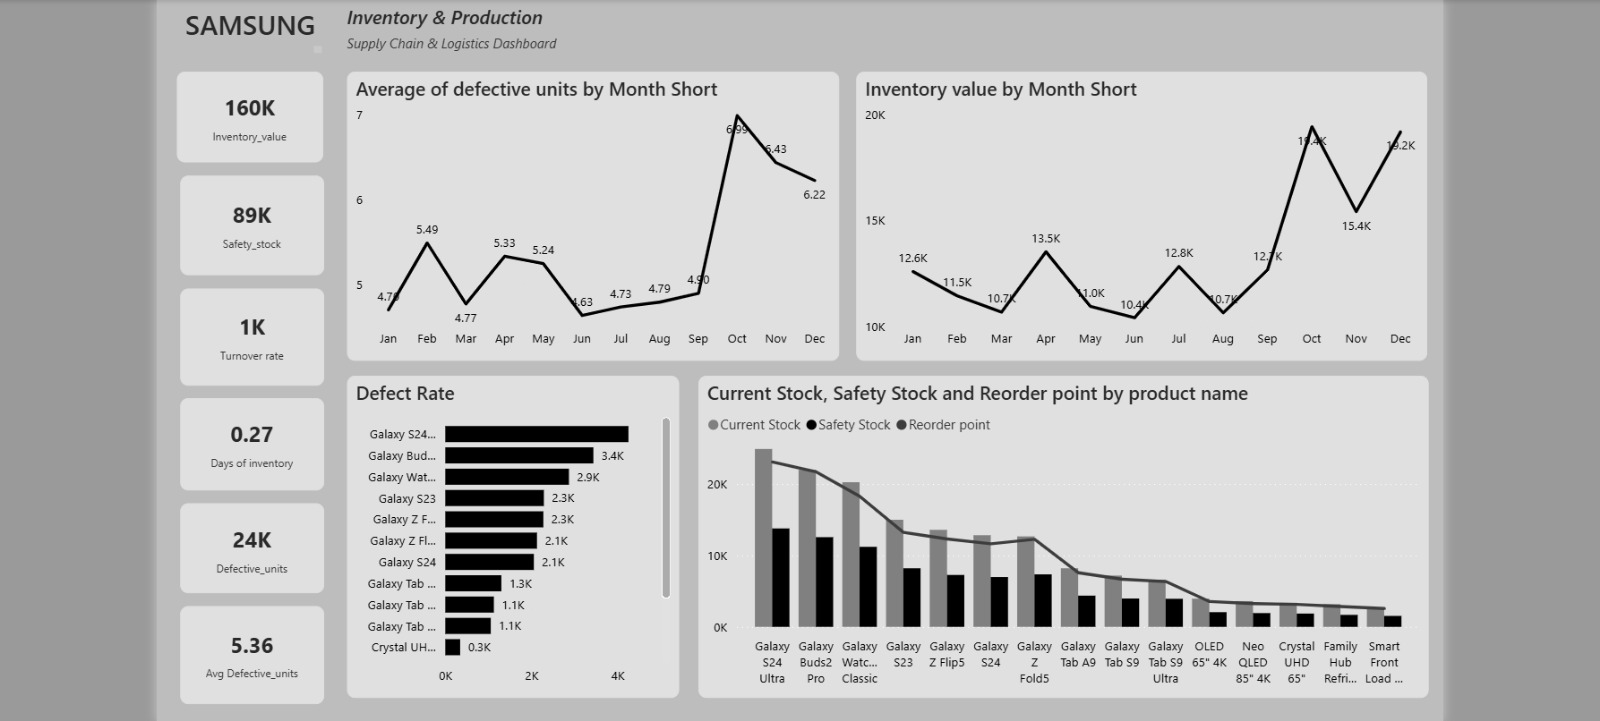

What the dashboard file says about the page in this screenshot:
{"tool":"powerbi","page":{"name":"Inventory","canvas":[1280,720],"ordinal":3},"visuals":[{"type":"shape","title":"Inventory & Production","box":[189.4,4.8,217.2,51.9],"z":0},{"type":"cardVisual","fields":{"Data":["Folder.Safety_stock"]},"box":[22.9,174.7,143.6,98.9],"z":1000},{"type":"cardVisual","fields":{"Data":["Sum(fact_production.defective_units)"]},"box":[22.9,500.9,143.6,89.3],"z":2000},{"type":"cardVisual","fields":{"Data":["Folder.Turnover rate"]},"box":[22.9,286.7,143.6,96.5],"z":3000},{"type":"cardVisual","fields":{"Data":["Folder.Days_of_inventory"]},"box":[22.9,396.2,143.6,91.7],"z":4000},{"type":"cardVisual","fields":{"Data":["Avg(fact_production.defective_units)"]},"box":[22.9,603.2,143.6,97.7],"z":5000},{"type":"cardVisual","fields":{"Data":["Folder.Inventory_value"]},"box":[20.5,71.2,146,90.5],"z":6000},{"type":"clusteredBarChart","title":"Defect Rate","fields":{"Category":["dim_product.product_name"],"Y":["Folder.Defect_Rate"]},"box":[189.4,374,330.6,320.9],"z":7000},{"type":"lineClusteredColumnComboChart","title":"Current Stock, Safety Stock and Reorder point by product name","fields":{"Category":["dim_product.product_name"],"Y":["Folder.Inventory_value","Folder.Safety_stock"],"Y2":["Folder.Reorder point"]},"box":[539.3,374,726.3,320.9],"z":8000},{"type":"lineChart","title":"Average of defective units by Month Short","fields":{"Y":["Avg(fact_production.defective_units)"],"Category":["dim_date.Month_Short"]},"box":[189.4,71.2,489.8,288.3],"z":9000},{"type":"lineChart","title":"Inventory value by Month Short","fields":{"Category":["dim_date.Month_Short"],"Y":["Folder.Inventory_value"]},"box":[696.1,71.2,568.2,288.3],"z":10000},{"type":"textbox","title":"SAMSUNG","box":[22.9,6,146,51.9],"z":11000}]}

Visuals, with their boxes on the page's 1280x720 design canvas (x1, y1, x2, y2). These are canvas units, not pixel positions in the 1600x721 screenshot, which may show the page scaled, cropped or inside an application window:
"Inventory & Production" shape: 189:5:407:57
cardVisual - Folder.Safety_stock: 23:175:166:274
cardVisual - Sum(fact_production.defective_units): 23:501:166:590
cardVisual - Folder.Turnover rate: 23:287:166:383
cardVisual - Folder.Days_of_inventory: 23:396:166:488
cardVisual - Avg(fact_production.defective_units): 23:603:166:701
cardVisual - Folder.Inventory_value: 20:71:166:162
"Defect Rate" clusteredBarChart: 189:374:520:695
"Current Stock, Safety Stock and Reorder point by product name" lineClusteredColumnComboChart: 539:374:1266:695
"Average of defective units by Month Short" lineChart: 189:71:679:360
"Inventory value by Month Short" lineChart: 696:71:1264:360
"SAMSUNG" textbox: 23:6:169:58
